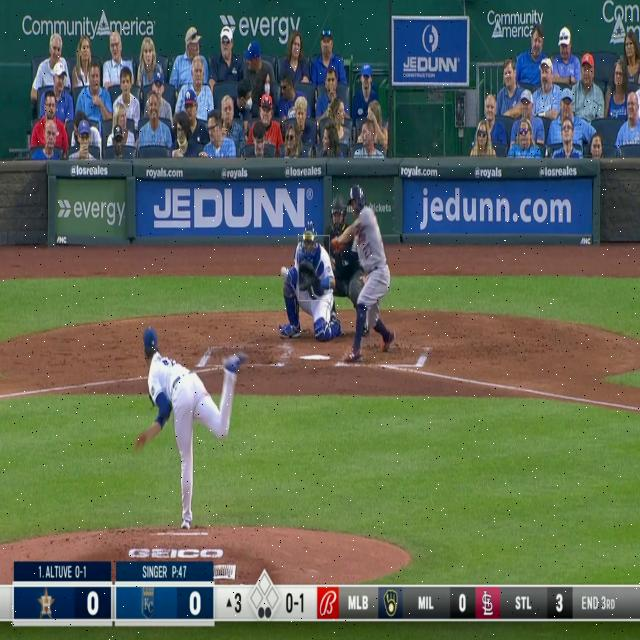baseball: (280, 266, 286, 276)
